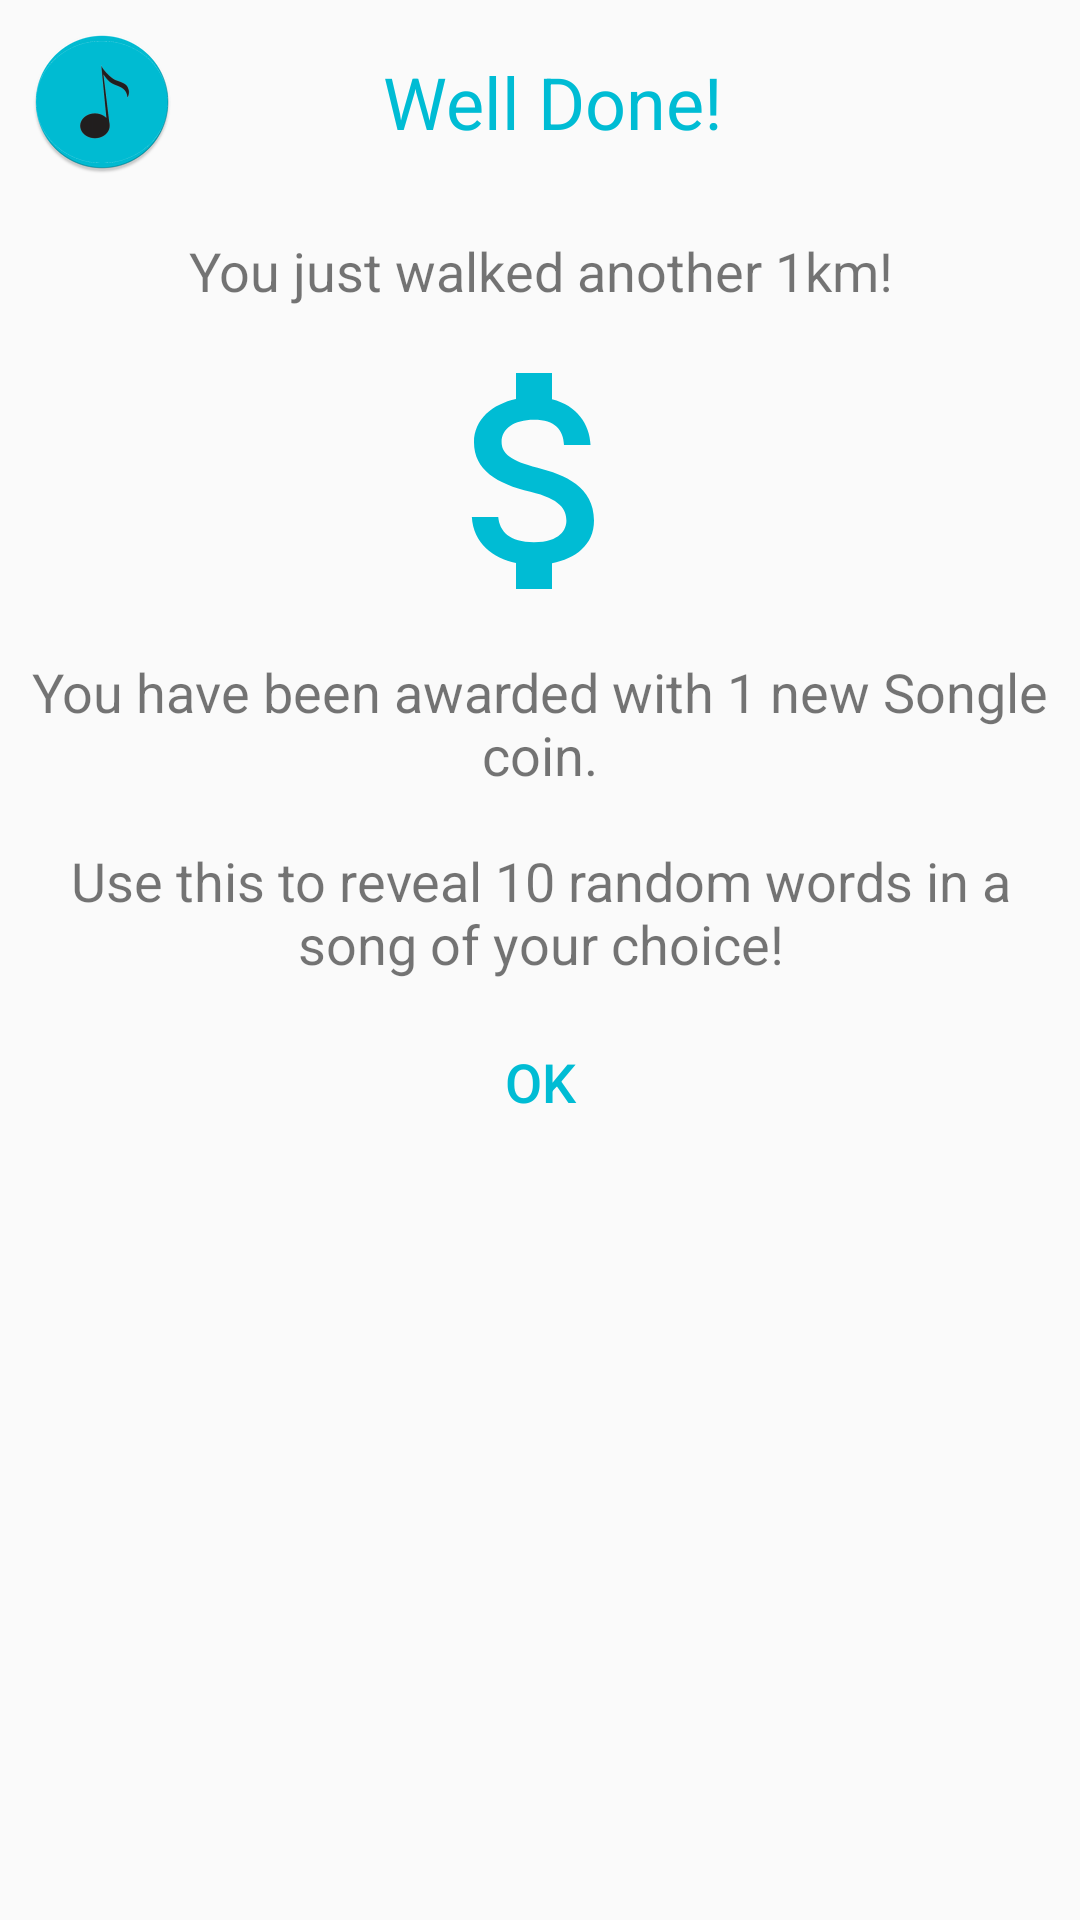

Locate icon controls on the screen. Image size 1080px×1920px, boxes as (x1, y1, x2, y2).
Songle dollar sign: (471, 373, 594, 589)
